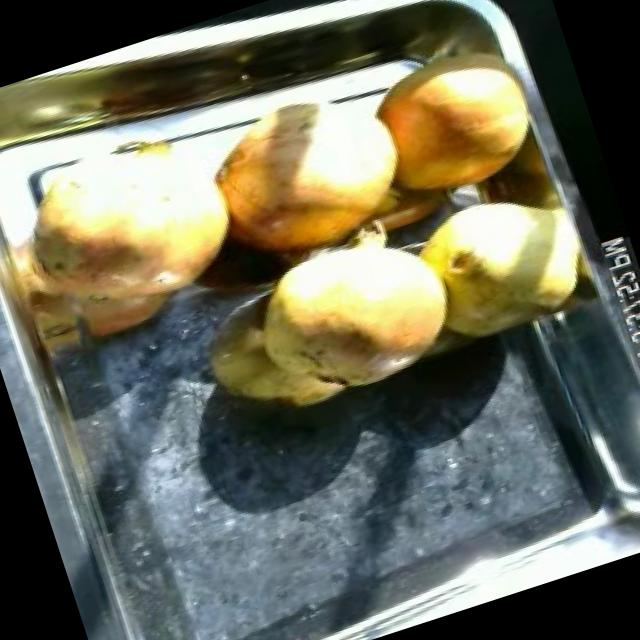fruit: (0, 103, 260, 342), (184, 61, 434, 290), (228, 206, 481, 422), (352, 26, 556, 218), (402, 168, 606, 354)
